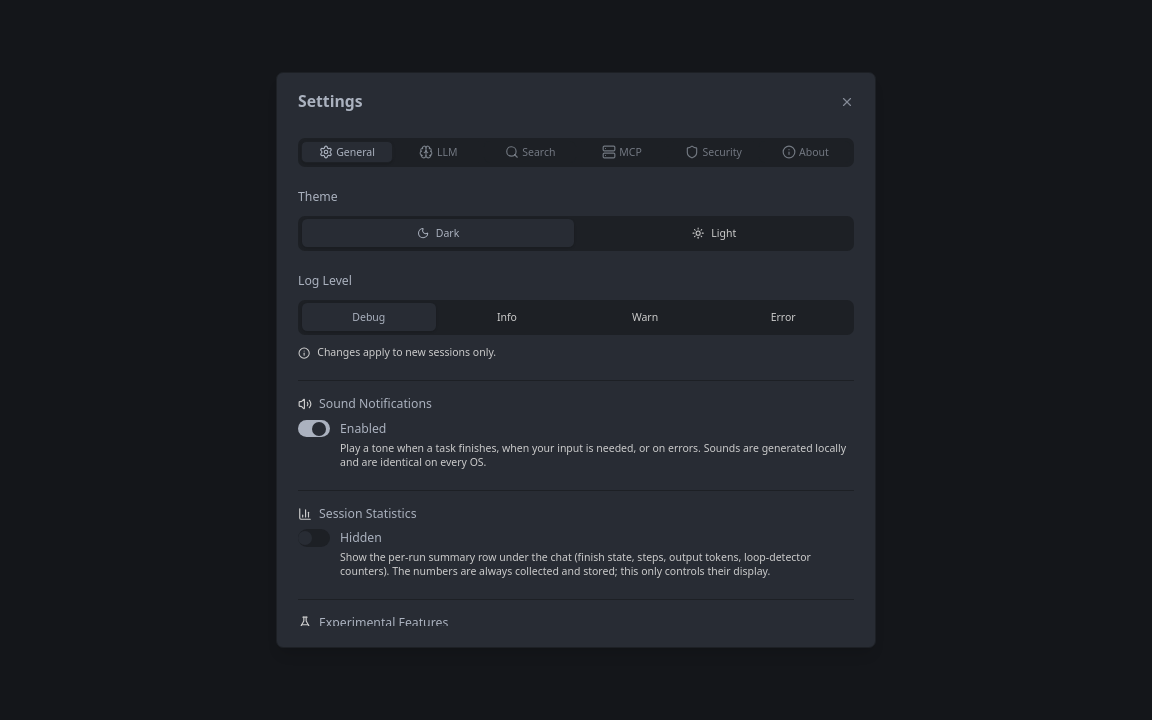
Test: SettingsModal close flow › blocks close, shows the banner, and switches to the LLM tab when no default model is configured
Click the button named "Close": (847, 102) x1=840 y1=95 x2=854 y2=109
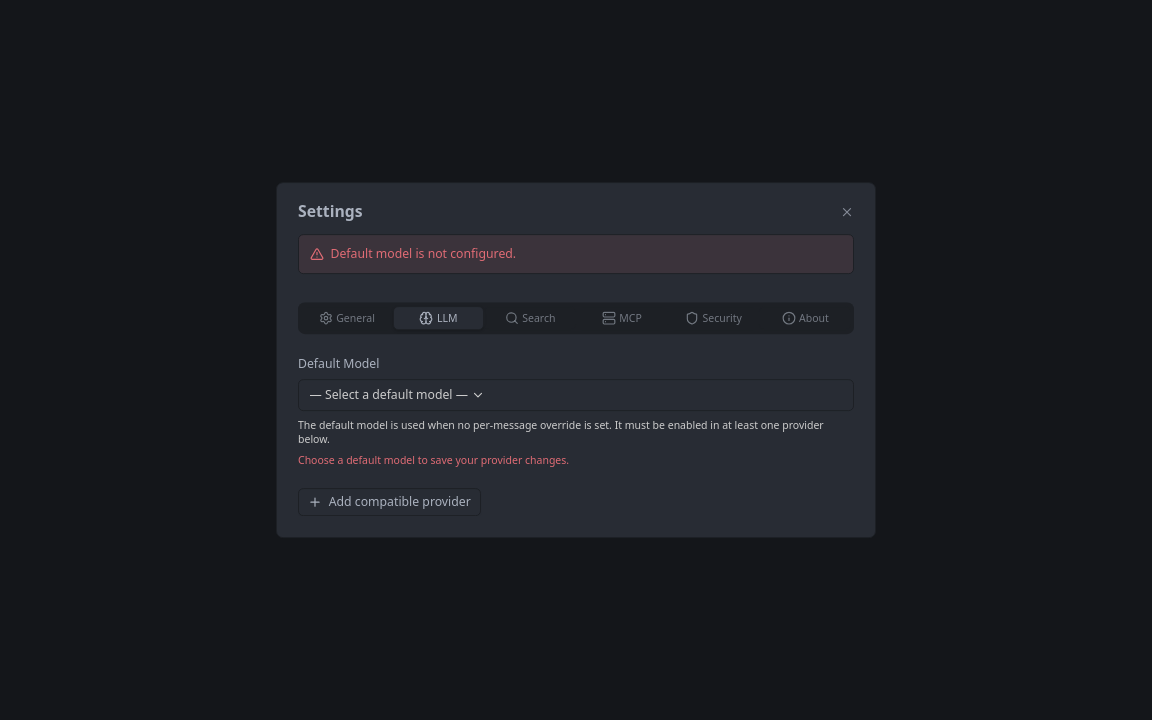
Result: the text "Default model is not configured." is shown at x1=330 y1=245 x2=516 y2=263
